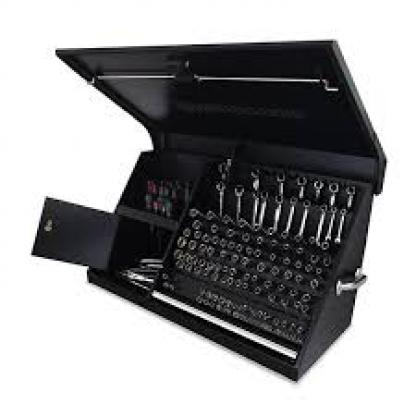Tool Box: (27, 30, 392, 387)
